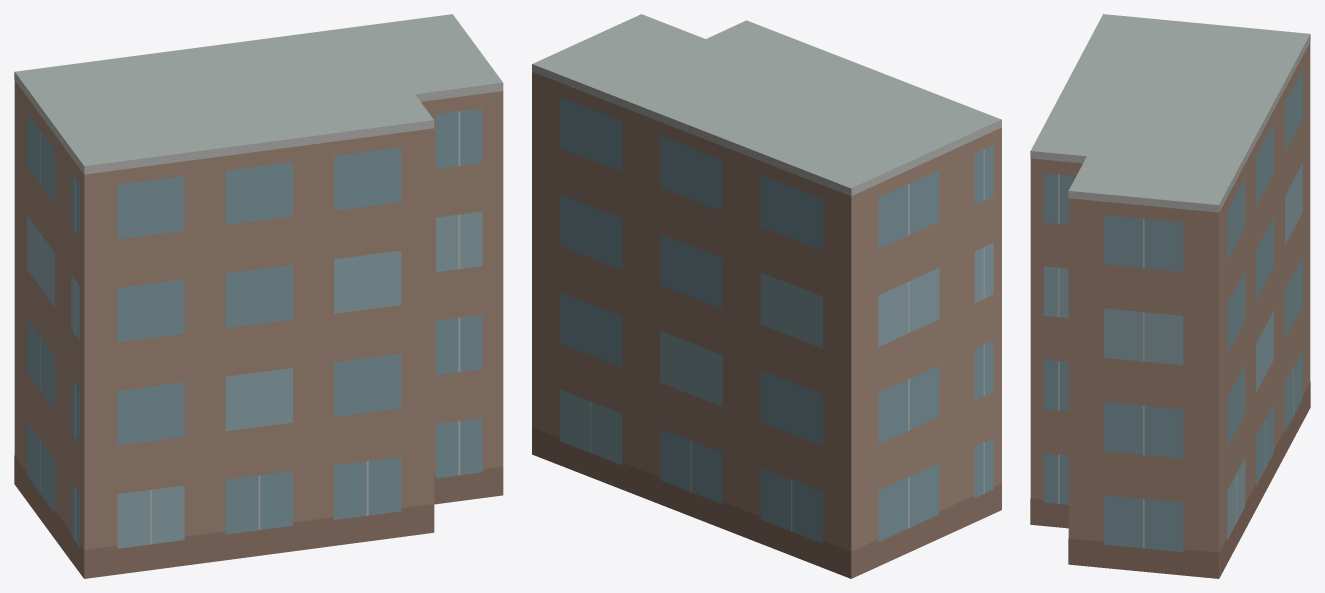
File: residential-1ab9493f-3f74-4c5b-9b94-2e9d9f30cab3.glb
The picture shows the model from 3 angles, left to right: view 1: azimuth 30°, elevation 25°; view 2: azimuth 150°, elevation 25°; view 3: azimuth 270°, elevation 25°; orthographic projection. The views are drawn at different scales.
Visible parts, largest first — view 1: residential-1ab9493f-3f74-4c5b-9b94-2e9d9f30cab3.tmp; view 2: residential-1ab9493f-3f74-4c5b-9b94-2e9d9f30cab3.tmp; view 3: residential-1ab9493f-3f74-4c5b-9b94-2e9d9f30cab3.tmp.
Part boxes in pixels (x1,y1,x2,y2): residential-1ab9493f-3f74-4c5b-9b94-2e9d9f30cab3.tmp: (14,14,503,578); residential-1ab9493f-3f74-4c5b-9b94-2e9d9f30cab3.tmp: (532,14,1001,578); residential-1ab9493f-3f74-4c5b-9b94-2e9d9f30cab3.tmp: (1030,14,1310,578).
Size of the model in its own units: 13.39 by 12.2 by 8.29.
